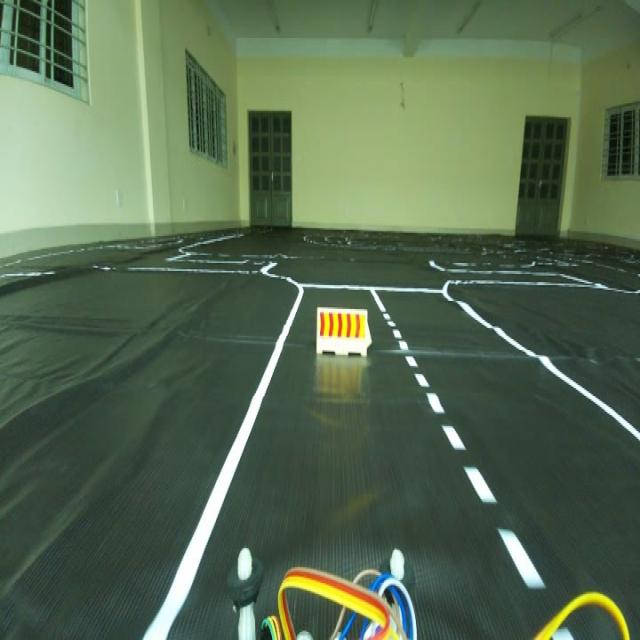roadblock: (309, 294, 380, 373)
